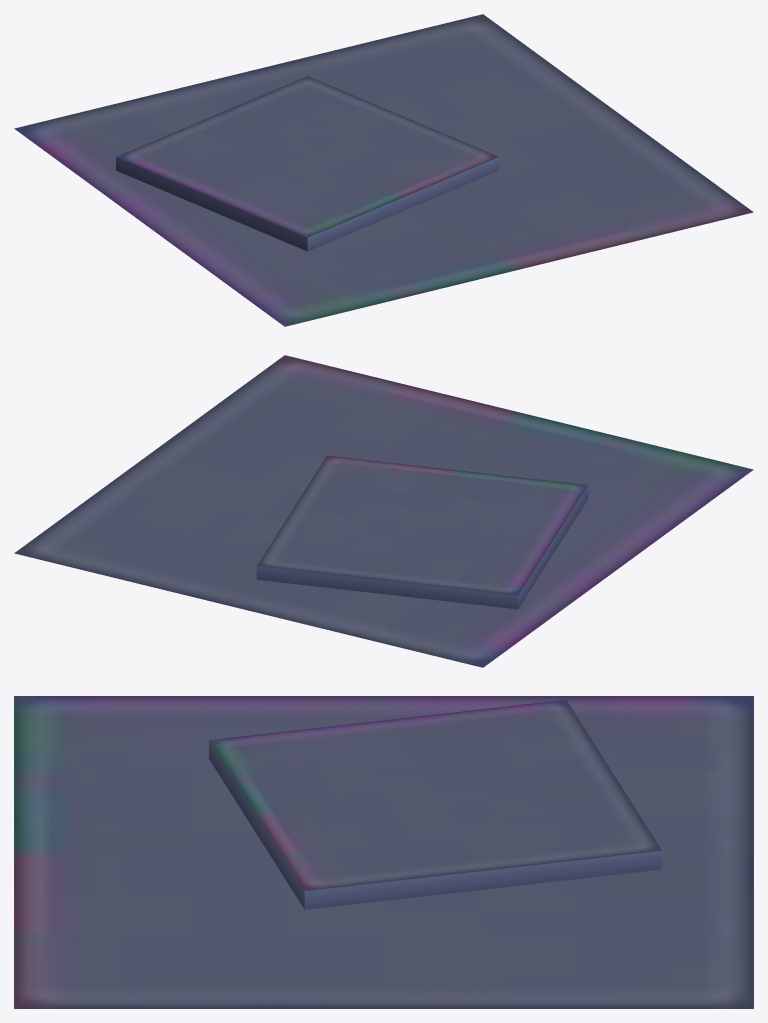
File: template-floor-detail.glb
The picture shows the model from 3 angles, top to bottom: view 1: azimuth 30°, elevation 25°; view 2: azimuth 150°, elevation 25°; view 3: azimuth 270°, elevation 25°; orthographic projection. The views are drawn at different scales.
Visible parts, largest first — view 1: template-floor-detail; view 2: template-floor-detail; view 3: template-floor-detail.
Boxes of the visible parts, box(x1,y1,x2,y2) form: template-floor-detail: box(14, 14, 753, 326); template-floor-detail: box(14, 355, 753, 667); template-floor-detail: box(14, 696, 753, 1008).
Size of the model in its own units: 4 by 0.1123 by 4.
1 material, 1 textured.
